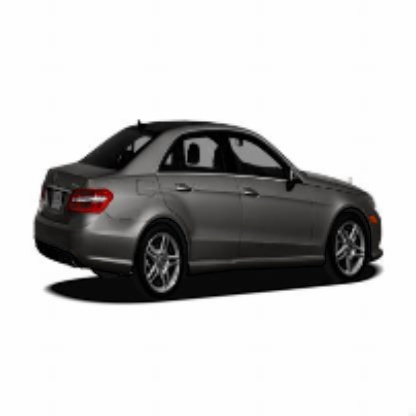Vehicle: (33, 118, 387, 316)
